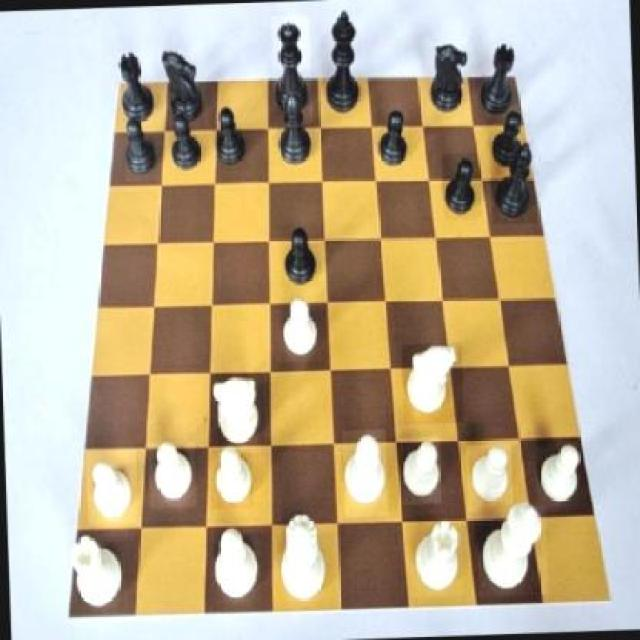bishop: (489, 138, 537, 224), (272, 91, 312, 171)
black-bishop: (318, 8, 364, 122)
black-king: (158, 46, 208, 126), (423, 39, 470, 122)
black-knight: (484, 109, 532, 173), (168, 106, 208, 179), (125, 109, 164, 182), (277, 223, 320, 289), (443, 153, 483, 220), (376, 101, 410, 176), (214, 106, 250, 169)
black-pawn: (269, 14, 312, 124)
black-queen: (470, 41, 526, 117), (117, 50, 155, 126)
black-rook: (211, 523, 261, 605), (342, 429, 388, 518)
white-bishop: (477, 504, 549, 598)
white-king: (401, 341, 464, 424), (210, 369, 266, 446)
white-knight: (84, 451, 138, 526), (536, 443, 590, 509), (148, 442, 197, 508), (466, 443, 513, 511), (280, 297, 322, 368), (398, 437, 441, 505), (209, 448, 254, 508)
white-pawn: (274, 506, 333, 606)
white-queen: (68, 531, 124, 613), (410, 520, 464, 597)
